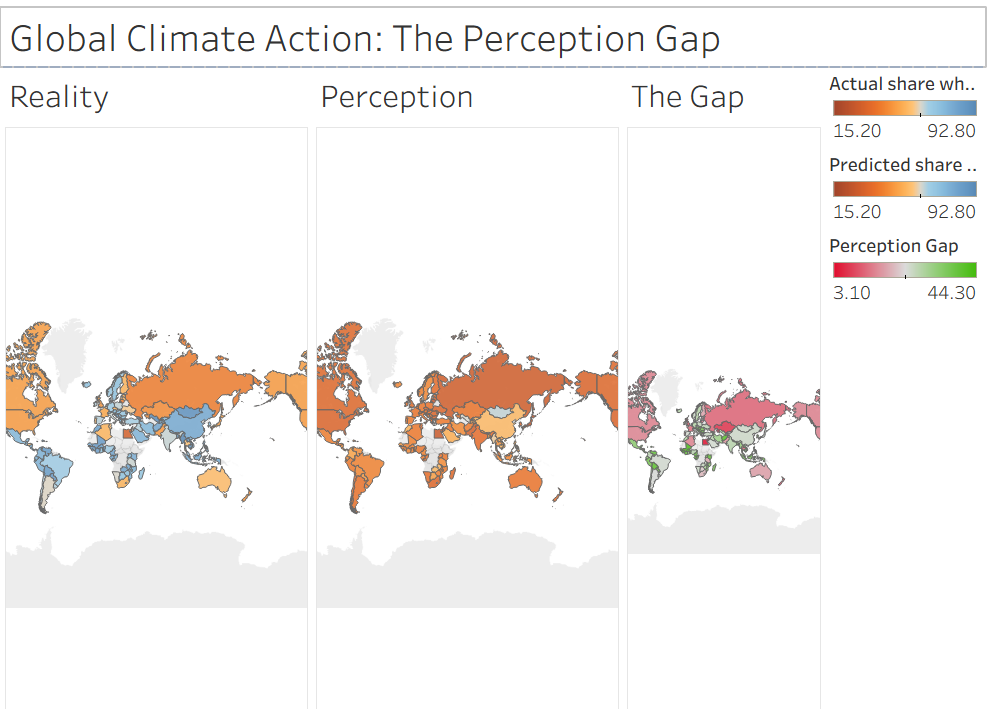

This screenshot's page, from the dashboard's own definition file:
{"tool":"tableau","page":{"name":"Climate Dashboard ","canvas":[1000,800],"ordinal":0},"visuals":[{"type":"title","box":[8,8,984,58]},{"type":"worksheet","title":"Reality","mark":"Automatic","box":[8,66,311,726]},{"type":"worksheet","title":"Perception ","mark":"Automatic","box":[319,66,311,726]},{"type":"worksheet","title":"The Gap","mark":"Automatic","box":[630,66,202,726]},{"type":"legend","title":"Reality","param":"[federated.18hfxl00gwjiow1evq7551wms5ar].[sum:Actual share who said they were wi","box":[832,66,160,81]},{"type":"legend","title":"Perception ","param":"[federated.18hfxl00gwjiow1evq7551wms5ar].[sum:Predicted share willing to give:qk","box":[832,147,160,81]},{"type":"legend","title":"The Gap","param":"[federated.18hfxl00gwjiow1evq7551wms5ar].[sum:Calculation_0171587095396353:qk]","box":[832,228,160,81]}]}

Visuals, with their boxes on the page's 1000x800 design canvas (x1, y1, x2, y2). These are canvas units, not pixel positions in the 987x709 screenshot, which may show the page scaled, cropped or inside an application window:
title: pyautogui.locateOnScreen(8, 8, 992, 66)
"Reality" worksheet: pyautogui.locateOnScreen(8, 66, 319, 792)
"Perception " worksheet: pyautogui.locateOnScreen(319, 66, 630, 792)
"The Gap" worksheet: pyautogui.locateOnScreen(630, 66, 832, 792)
"Reality" legend: pyautogui.locateOnScreen(832, 66, 992, 147)
"Perception " legend: pyautogui.locateOnScreen(832, 147, 992, 228)
"The Gap" legend: pyautogui.locateOnScreen(832, 228, 992, 309)
